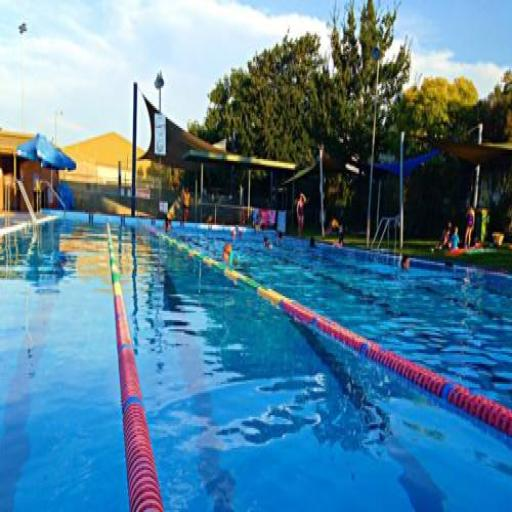swimming: (292, 186, 309, 242), (461, 200, 477, 252), (219, 238, 240, 274), (396, 249, 413, 276)
